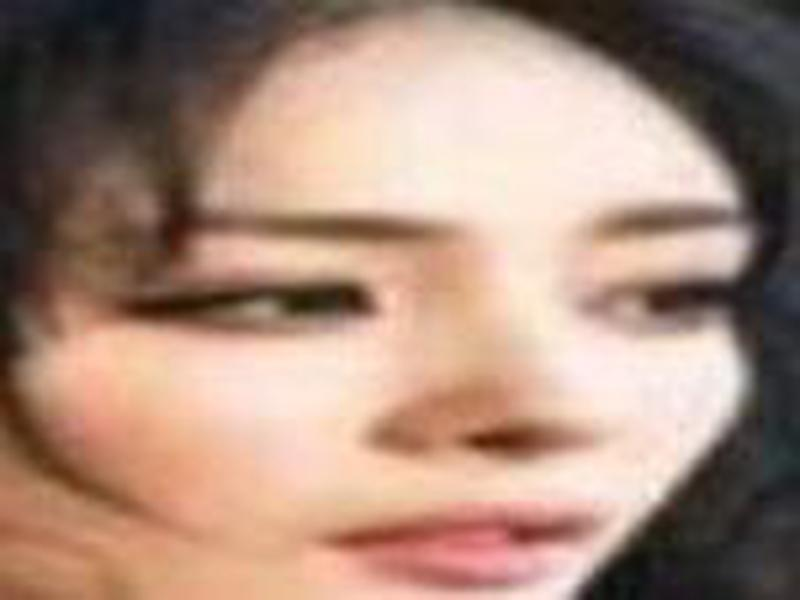without_mask: (78, 76, 765, 595)
